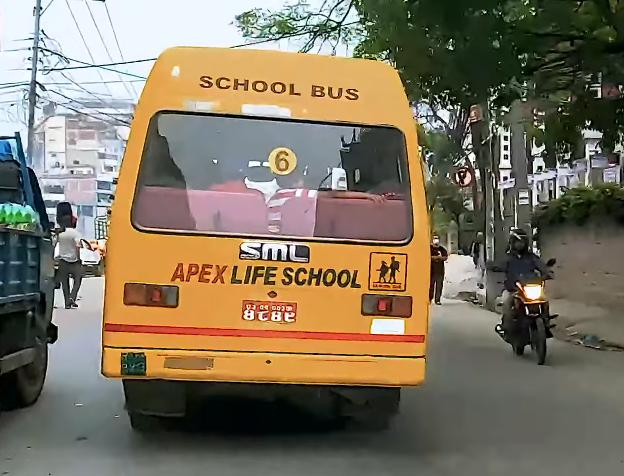bike: (490, 255, 566, 373)
mini_truck: (0, 127, 74, 424)
school_bus: (97, 42, 437, 435)
